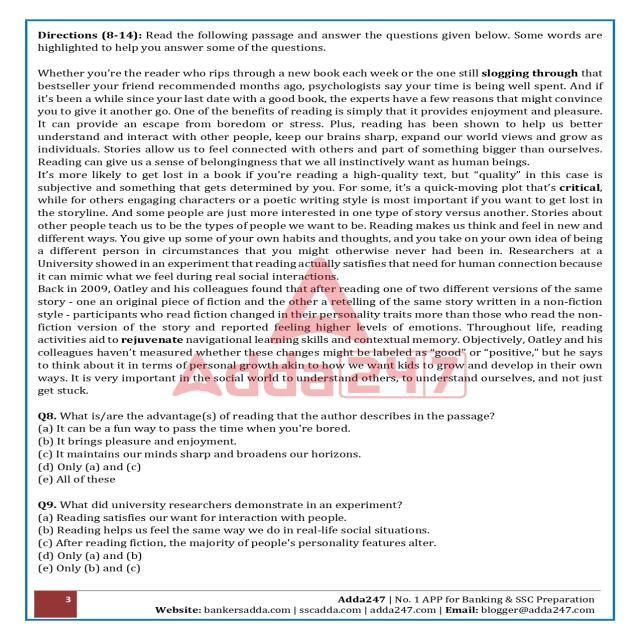Answer_Block: (30, 516, 611, 584), (30, 424, 611, 490)
Instruction: (30, 27, 611, 400)
Question_Answer_Block: (30, 496, 611, 584), (30, 403, 611, 490)
Question_Block: (30, 403, 611, 424), (30, 497, 611, 512)
Question_Paper_Area: (30, 28, 611, 584)
